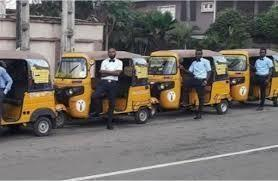keke: (56, 50, 154, 125), (148, 46, 230, 114), (0, 50, 57, 138), (218, 48, 278, 108)
